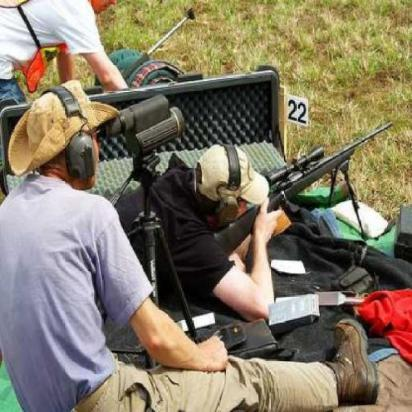Gun: (209, 122, 395, 240)
